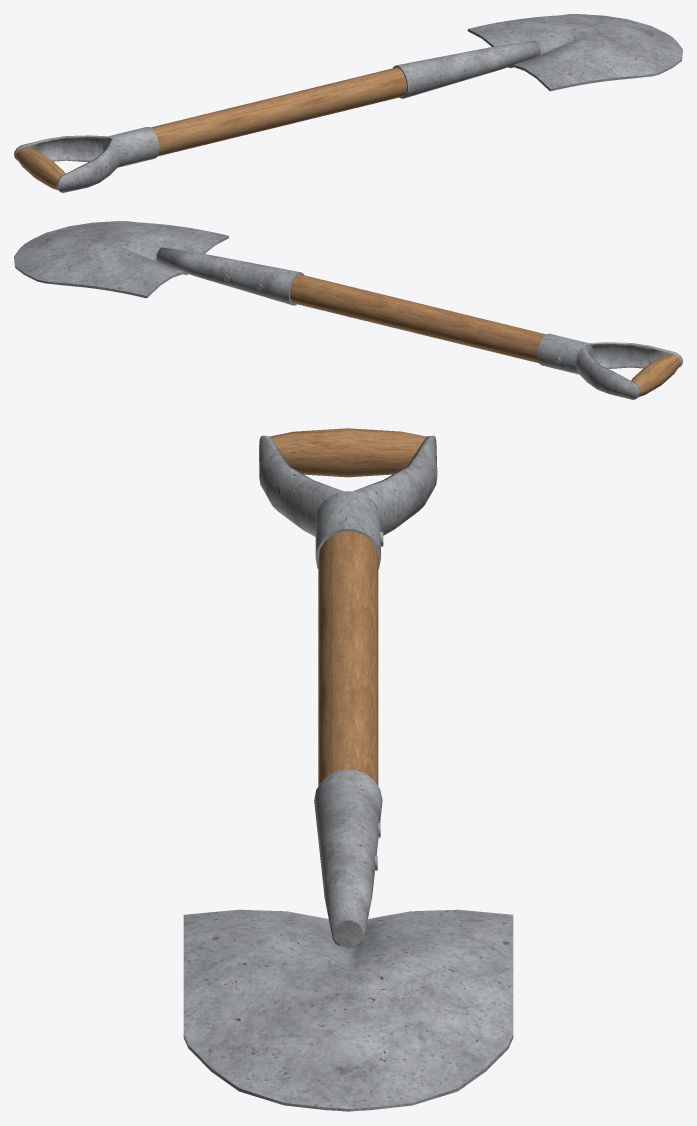
File: shovel.glb
3 views of the same model, one above another, from view 1: azimuth 30°, elevation 25°; view 2: azimuth 150°, elevation 25°; view 3: azimuth 270°, elevation 25° (orthographic). The views are drawn at different scales.
Visible parts, largest first — view 1: Shovel; view 2: Shovel; view 3: Shovel.
Part boxes in pixels (x1,y1,x2,y2): Shovel: (14,14,682,192); Shovel: (14,221,682,399); Shovel: (183,428,513,1111).
Size of the model in its own units: 1 by 0.0565 by 0.2231.
1 material, 1 textured.
